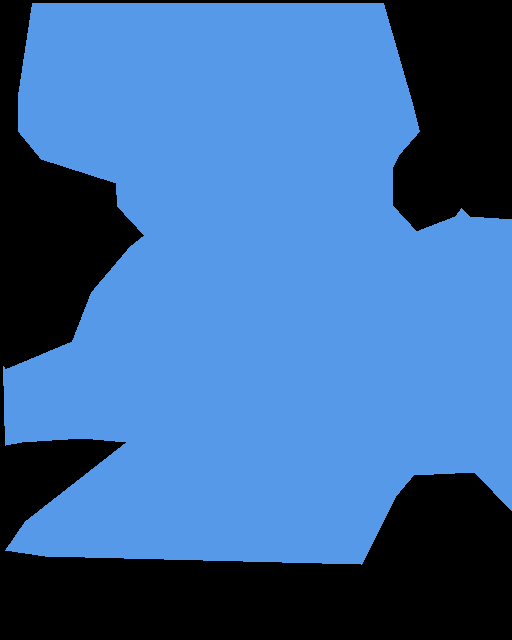Airplane: (3, 3, 512, 564)
